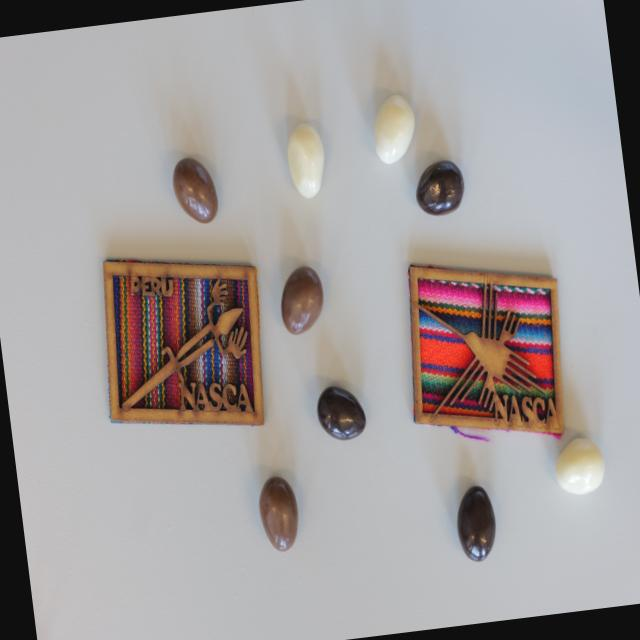Jelly_Black: (452, 483, 500, 564), (314, 382, 368, 443), (413, 158, 467, 217)
Jelly_Milk: (170, 153, 220, 225), (276, 264, 327, 334), (256, 475, 302, 551)
Jelly_White: (369, 92, 420, 166), (551, 436, 608, 498), (283, 122, 328, 198)
